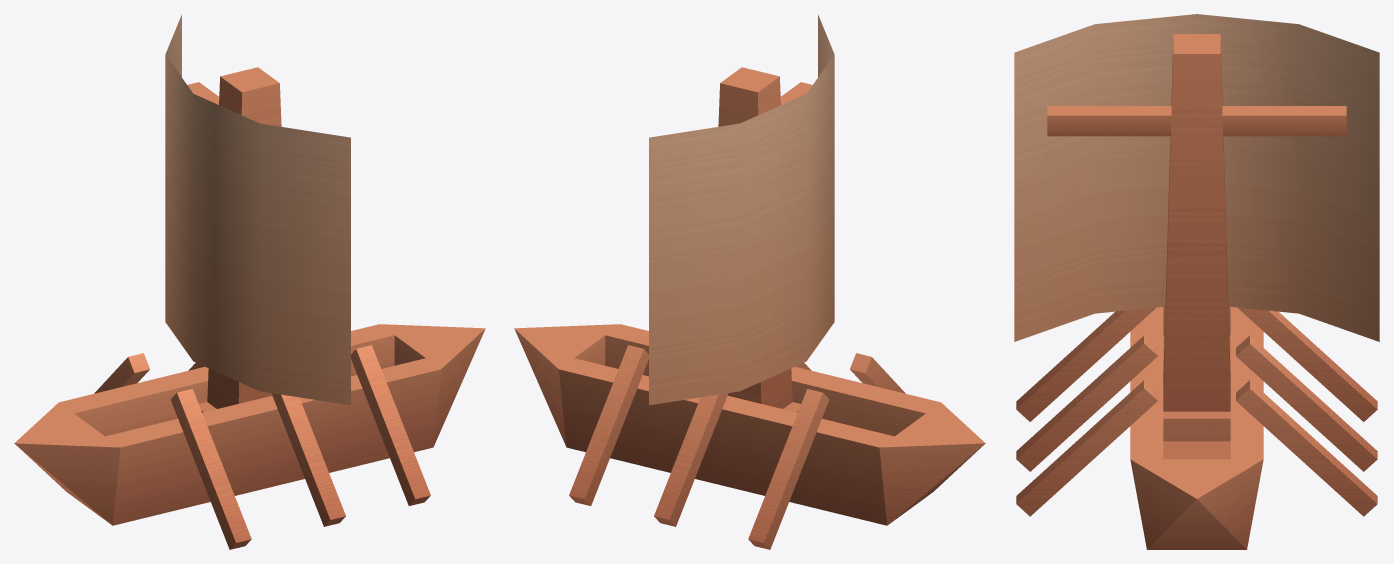
File: hx_unit-ship-large.glb
3 renders of one model, left to right at view 1: azimuth 30°, elevation 25°; view 2: azimuth 150°, elevation 25°; view 3: azimuth 270°, elevation 25°, orthographic. The views are drawn at different scales.
Bounding box in the file's own units: 0.645 × 0.5096 × 0.4.
Materials: 1 (1 with a texture image).
